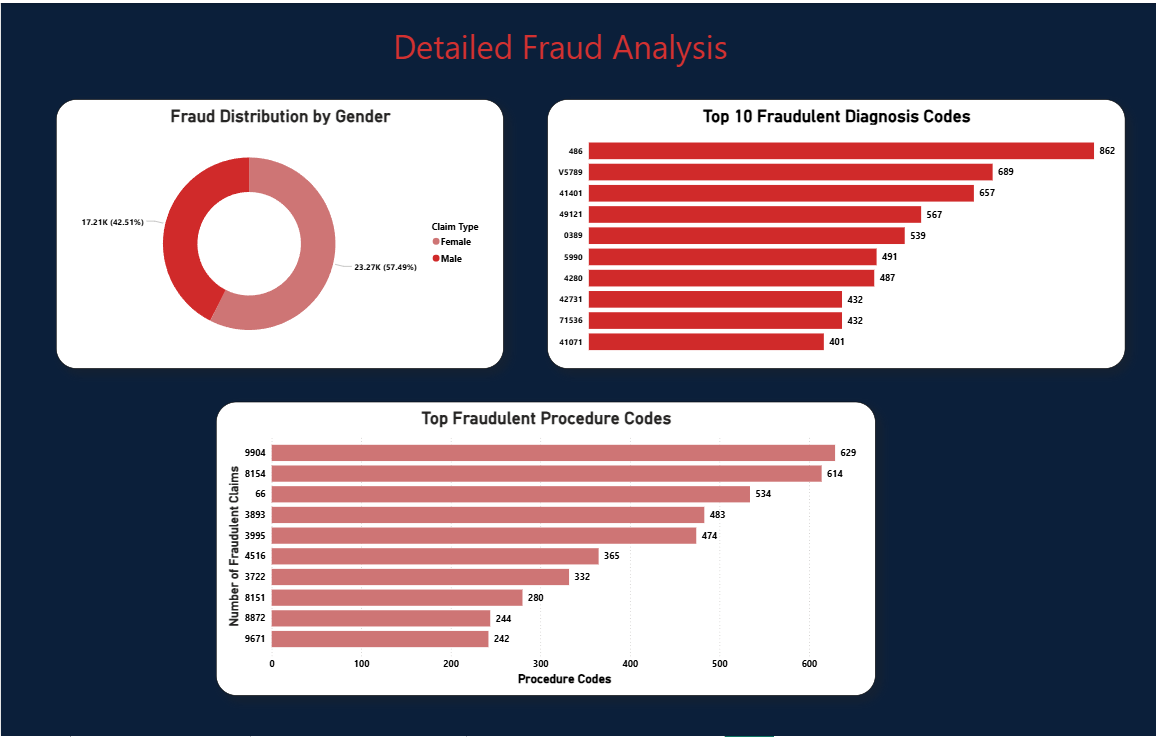

This screenshot's page, from the dashboard's own definition file:
{"tool":"powerbi","page":{"name":"Detailed Fraud Analytics","canvas":[1700,1080],"ordinal":1},"visuals":[{"type":"textbox","box":[23,24.9,1563.6,99.6],"z":0},{"type":"clusteredBarChart","title":"Top 10 Fraudulent Diagnosis Codes","fields":{"Category":["Fraud_Detection_Output.ClmDiagnosisCode_1"],"Y":["CountNonNull(Fraud_Detection_Output.PotentialFraud)"]},"box":[803.7,141.8,851,397.1],"z":1000},{"type":"donutChart","title":"Fraud Distribution by Gender","fields":{"Y":["CountNonNull(Fraud_Detection_Output.ClaimID)"],"Category":["Fraud_Detection_Output.GenderType"]},"box":[80.4,141.8,659.5,397.1],"z":4000},{"type":"clusteredBarChart","title":"Top Fraudulent Procedure Codes","fields":{"Category":["Fraud_Detection_Output.ClmProcedureCode_1"],"Y":["CountNonNull(Fraud_Detection_Output.ClaimID)"]},"box":[316.7,586.2,971.5,432.6],"z":4001}]}

Visuals, with their boxes in screenshot pixels (x1, y1, x2, y2), scaled from the page's 1700x1080 canvas onto the 1156x737 screenshot:
textbox: 16:17:1079:85
"Top 10 Fraudulent Diagnosis Codes" clusteredBarChart: 547:97:1125:368
"Fraud Distribution by Gender" donutChart: 55:97:503:368
"Top Fraudulent Procedure Codes" clusteredBarChart: 215:400:876:695
